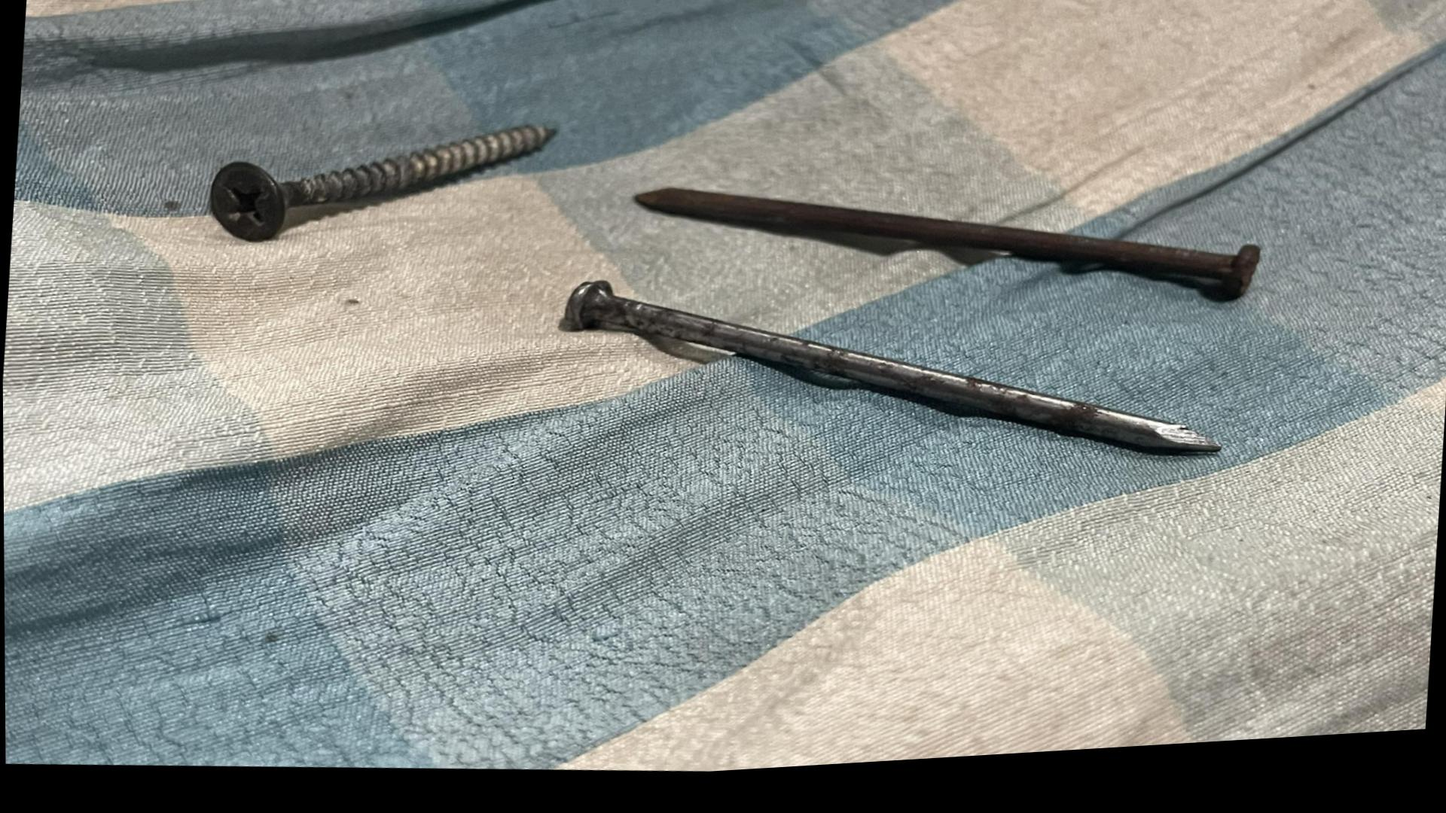nail: (509, 243, 1256, 539), (614, 143, 1278, 357)
screw: (190, 77, 567, 275)
